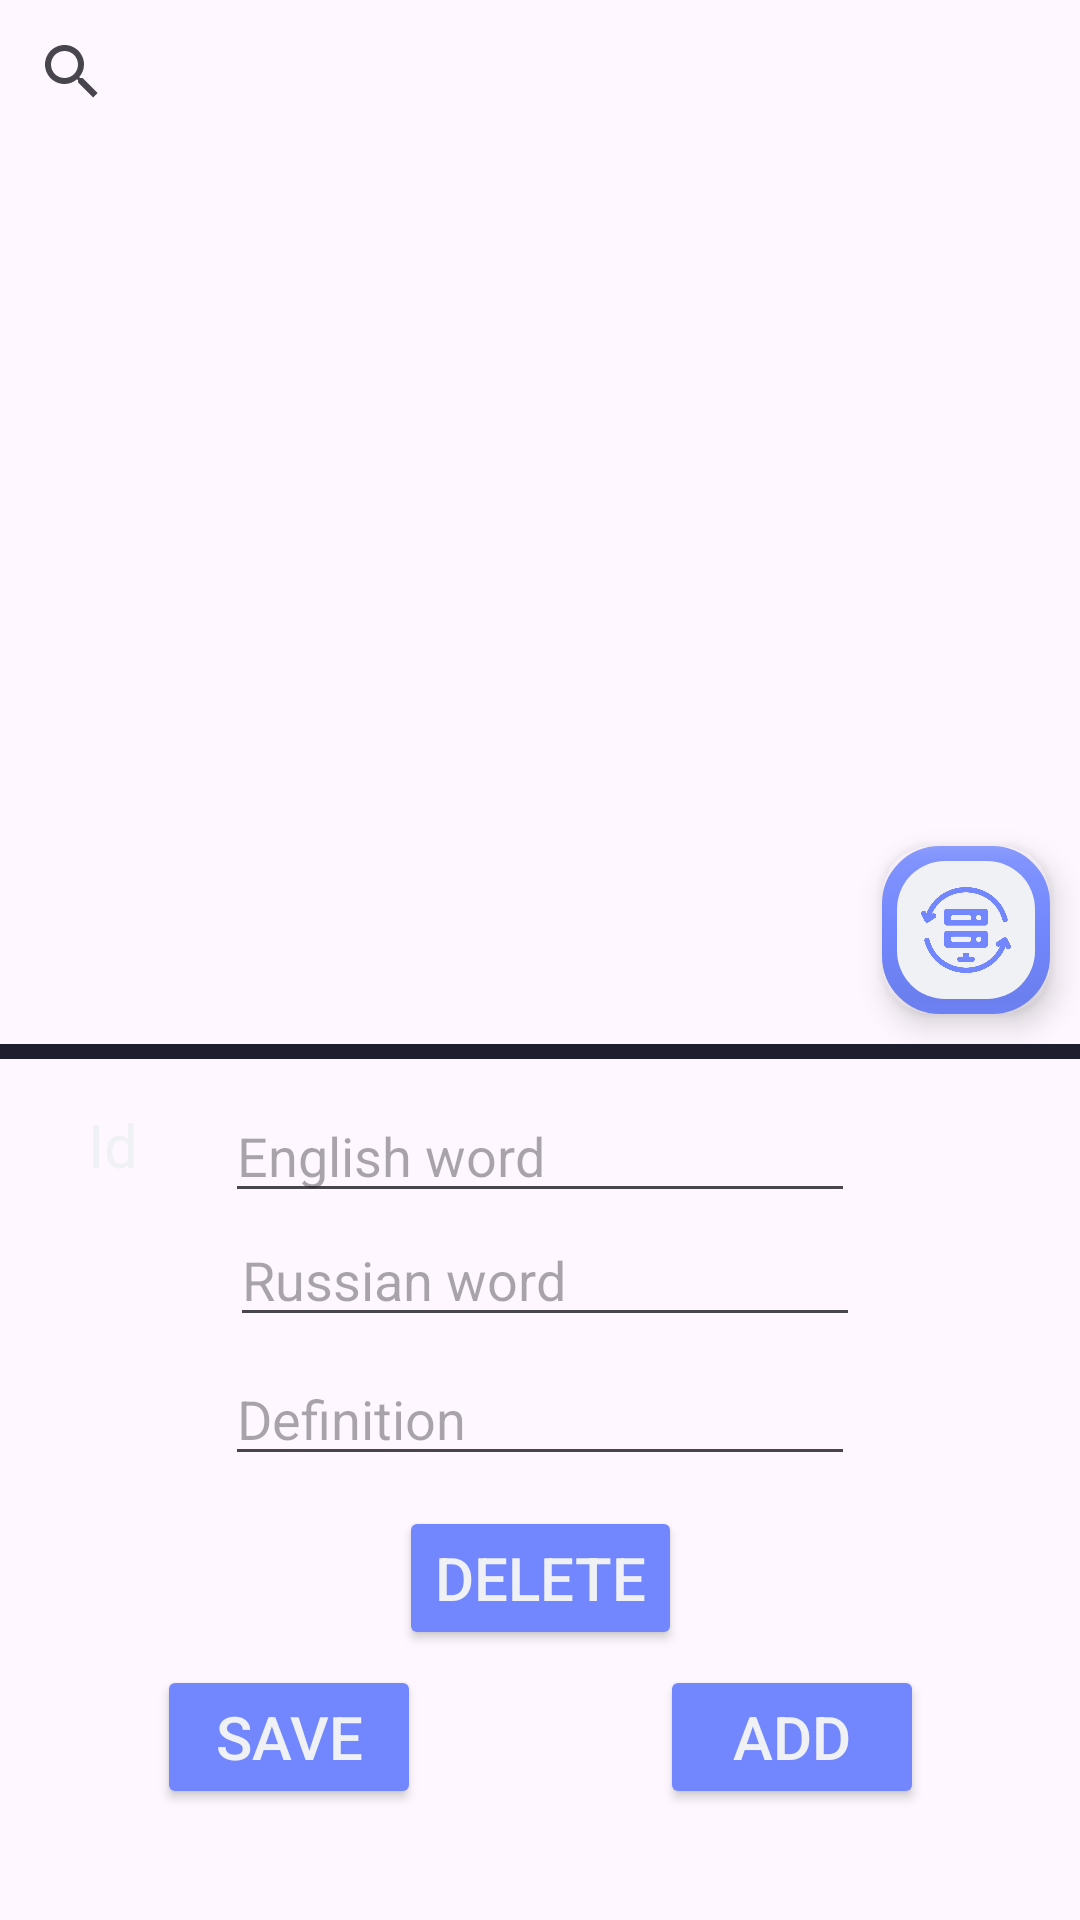

Icon bounding boxes for this 1080px×1920px phone screenshot, format box(x1, y1, x2, y2):
Refresh: box(882, 846, 1050, 1014)
